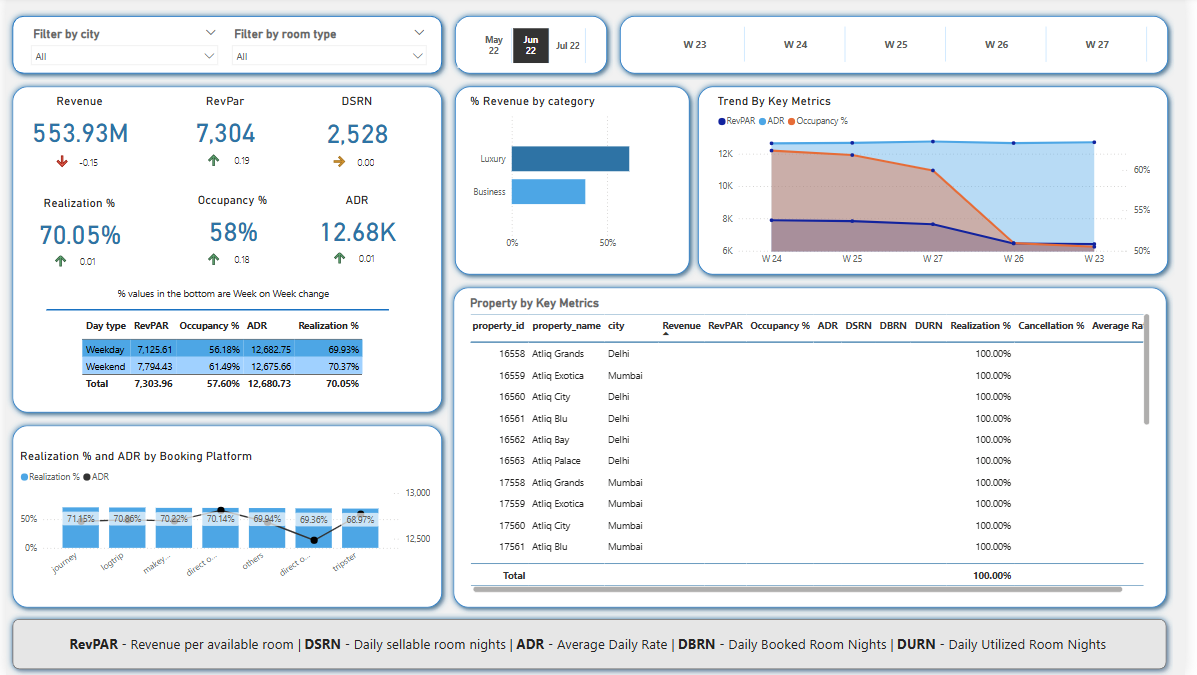

The dashboard page shown, as its layout file describes it:
{"tool":"powerbi","page":{"name":"Page 1","canvas":[1650,950],"ordinal":0},"visuals":[{"type":"shape","box":[0,18.9,619.1,98.6],"z":0},{"type":"shape","box":[850,18.9,784.9,98.6],"z":1000},{"type":"shape","box":[619.1,18.9,230.9,98.6],"z":2000},{"type":"shape","box":[959.1,117.5,675.8,281.2],"z":3000},{"type":"shape","box":[619.1,117.5,346.3,281.2],"z":4000},{"type":"shape","box":[617,398.8,1015.8,465.9],"z":5000},{"type":"shape","box":[0,591.8,619.1,272.8],"z":6000},{"type":"shape","box":[0,117.5,619.1,474.3],"z":7000},{"type":"tableEx","title":"Revenue","fields":{"Values":["key_measures.ADR WoW change %"]},"box":[447,327.4,88.1,60.9],"z":8000},{"type":"tableEx","title":"Revenue","fields":{"Values":["key_measures.Occupancy WoW change %"]},"box":[270.7,329.5,90.2,58.8],"z":9000},{"type":"tableEx","title":"Revenue","fields":{"Values":["key_measures.Realisation WoW change %"]},"box":[56.7,331.6,88.1,60.9],"z":10000},{"type":"tableEx","title":"Revenue","fields":{"Values":["key_measures.DSRN WoW change %"]},"box":[447,193.1,88.1,58.8],"z":11000},{"type":"tableEx","title":"Revenue","fields":{"Values":["key_measures.Revenue WoW change %"]},"box":[58.8,193.1,90.2,58.8],"z":12000},{"type":"tableEx","title":"Property by Key Metrics","fields":{"Values":["dim_hotels.property_id","dim_hotels.property_name","dim_hotels.city","key_measures.Revenue","key_measures.RevPAR","key_measures.Occupancy %","key_measures.ADR","key_measures.DSRN","key_measures.DBRN","key_measures.DURN","key_measures.Realization %","key_measures.Cancellation %"]},"box":[644.3,419.7,961.2,419.7],"z":13000},{"type":"slicer","fields":{"Values":["dim_hotels.city"]},"box":[25.2,37.8,281.2,63],"z":14000},{"type":"slicer","fields":{"Values":["dim_rooms.room_class"]},"box":[306.4,37.8,291.7,63],"z":15000},{"type":"slicer","fields":{"Values":["dim_date.mmm yy"]},"box":[631.7,37.8,203.6,63],"z":16000},{"type":"slicer","fields":{"Values":["dim_date.week no"]},"box":[868.9,35.7,751.3,63],"z":17000},{"type":"card","title":"Revenue","fields":{"Values":["key_measures.Revenue"]},"box":[25.2,136.4,155.3,83.9],"z":18000},{"type":"donutChart","title":"% Revenue by category","fields":{"Category":["dim_hotels.category"],"Y":["key_measures.Revenue"]},"box":[644.3,136.4,293.8,226.7],"z":19000},{"type":"tableEx","title":"Revenue","fields":{"Values":["key_measures.Revpar WoW change %"]},"box":[270.7,191,90.2,58.8],"z":20000},{"type":"card","title":"DSRN","fields":{"Values":["key_measures.DSRN"]},"box":[413.4,136.4,155.3,86],"z":21000},{"type":"card","title":"RevPar","fields":{"Values":["key_measures.RevPAR"]},"box":[228.8,136.4,155.3,83.9],"z":22000},{"type":"card","title":"Occupancy %","fields":{"Values":["key_measures.Occupancy %"]},"box":[239.3,274.9,155.3,83.9],"z":23000},{"type":"card","title":"ADR","fields":{"Values":["key_measures.ADR"]},"box":[413.4,274.9,155.3,83.9],"z":24000},{"type":"card","title":"Realization %","fields":{"Values":["key_measures.Realization %"]},"box":[25.2,279.1,155.3,83.9],"z":25000},{"type":"lineChart","title":"Trend By Key Metrics","fields":{"Category":["dim_date.mmm yy.Variation.Date Hierarchy.Month","dim_date.week no"],"Y":["key_measures.RevPAR","key_measures.ADR"],"Y2":["key_measures.Occupancy %"]},"box":[990.6,136.4,614.9,249.7],"z":26000},{"type":"lineClusteredColumnComboChart","title":"Realization % and ADR by Booking Platform","fields":{"Category":["fact_bookings.booking_platform"],"Y":["key_measures.Realization %"],"Y2":["key_measures.ADR"]},"box":[14.7,633.8,583.4,191],"z":27000},{"type":"tableEx","fields":{"Values":["dim_date.day_type","key_measures.RevPAR","key_measures.Occupancy %","key_measures.ADR","key_measures.Realization %"]},"box":[100.7,442.8,417.6,125.9],"z":28000},{"type":"shape","box":[0,862.8,1632.6,88.4],"z":29000},{"type":"textbox","box":[83.7,888.4,1483.7,39.5],"z":30000},{"type":"shape","box":[55.8,402.3,479.1,72.1],"z":31000},{"type":"textbox","box":[151.2,400,314,34.9],"z":31001}]}

Visuals, with their boxes in screenshot pixels (x1, y1, x2, y2), scaled from the page's 1650x950 canvas onto the 1197x675 screenshot:
shape: {"x1": 0, "y1": 13, "x2": 449, "y2": 83}
shape: {"x1": 617, "y1": 13, "x2": 1186, "y2": 83}
shape: {"x1": 449, "y1": 13, "x2": 617, "y2": 83}
shape: {"x1": 696, "y1": 83, "x2": 1186, "y2": 283}
shape: {"x1": 449, "y1": 83, "x2": 700, "y2": 283}
shape: {"x1": 448, "y1": 283, "x2": 1185, "y2": 614}
shape: {"x1": 0, "y1": 420, "x2": 449, "y2": 614}
shape: {"x1": 0, "y1": 83, "x2": 449, "y2": 420}
"Revenue" tableEx: {"x1": 324, "y1": 233, "x2": 388, "y2": 276}
"Revenue" tableEx: {"x1": 196, "y1": 234, "x2": 262, "y2": 276}
"Revenue" tableEx: {"x1": 41, "y1": 236, "x2": 105, "y2": 279}
"Revenue" tableEx: {"x1": 324, "y1": 137, "x2": 388, "y2": 179}
"Revenue" tableEx: {"x1": 43, "y1": 137, "x2": 108, "y2": 179}
"Property by Key Metrics" tableEx: {"x1": 467, "y1": 298, "x2": 1165, "y2": 596}
slicer - dim_hotels.city: {"x1": 18, "y1": 27, "x2": 222, "y2": 72}
slicer - dim_rooms.room_class: {"x1": 222, "y1": 27, "x2": 434, "y2": 72}
slicer - dim_date.mmm yy: {"x1": 458, "y1": 27, "x2": 606, "y2": 72}
slicer - dim_date.week no: {"x1": 630, "y1": 25, "x2": 1175, "y2": 70}
"Revenue" card: {"x1": 18, "y1": 97, "x2": 131, "y2": 157}
"% Revenue by category" donutChart: {"x1": 467, "y1": 97, "x2": 681, "y2": 258}
"Revenue" tableEx: {"x1": 196, "y1": 136, "x2": 262, "y2": 177}
"DSRN" card: {"x1": 300, "y1": 97, "x2": 413, "y2": 158}
"RevPar" card: {"x1": 166, "y1": 97, "x2": 279, "y2": 157}
"Occupancy %" card: {"x1": 174, "y1": 195, "x2": 286, "y2": 255}
"ADR" card: {"x1": 300, "y1": 195, "x2": 413, "y2": 255}
"Realization %" card: {"x1": 18, "y1": 198, "x2": 131, "y2": 258}
"Trend By Key Metrics" lineChart: {"x1": 719, "y1": 97, "x2": 1165, "y2": 274}
"Realization % and ADR by Booking Platform" lineClusteredColumnComboChart: {"x1": 11, "y1": 450, "x2": 434, "y2": 586}
tableEx - dim_date.day_type x key_measures.RevPAR: {"x1": 73, "y1": 315, "x2": 376, "y2": 404}
shape: {"x1": 0, "y1": 613, "x2": 1184, "y2": 674}
textbox: {"x1": 61, "y1": 631, "x2": 1137, "y2": 659}
shape: {"x1": 40, "y1": 286, "x2": 388, "y2": 337}
textbox: {"x1": 110, "y1": 284, "x2": 337, "y2": 309}
